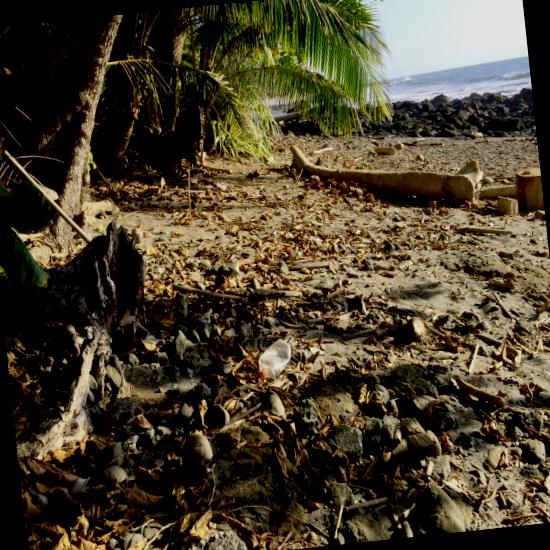Clear plastic bottle: (259, 339, 291, 378)
Plastic bottle cap: (260, 370, 266, 377)
